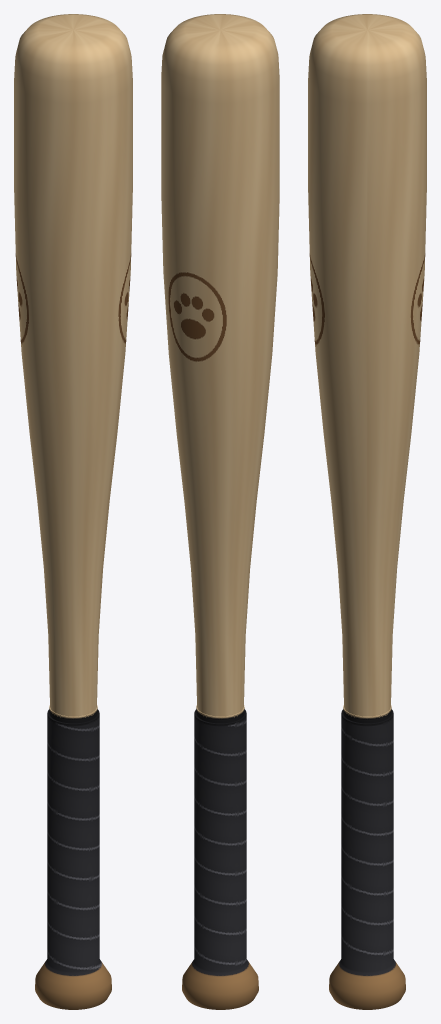
Rendered from Bat_Common.fbx.
The picture shows the model from 3 angles, left to right: view 1: azimuth 90°, elevation 25°; view 2: azimuth 150°, elevation 25°; view 3: azimuth 270°, elevation 25°; orthographic projection.
Parts seen in each view (by area): view 1: Handle; view 2: Handle; view 3: Handle.
Part boxes in pixels (x1,y1,x2,y2): Handle: (14,14,132,1009); Handle: (161,14,279,1009); Handle: (308,14,426,1009).
Bounding box in the file's own units: 0.4 × 3.6 × 0.4.
Materials: 1 (1 with a texture image).
